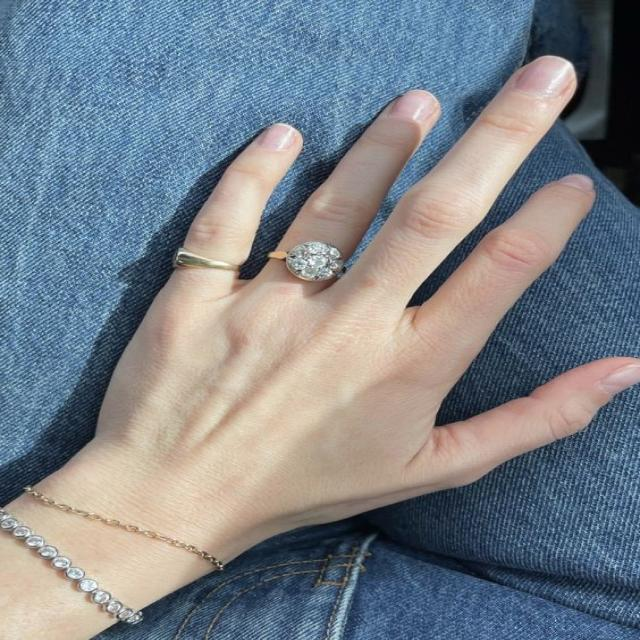Fingernail: (516, 57, 573, 97), (392, 91, 437, 123), (601, 366, 639, 393), (260, 124, 295, 150), (562, 175, 593, 191)
